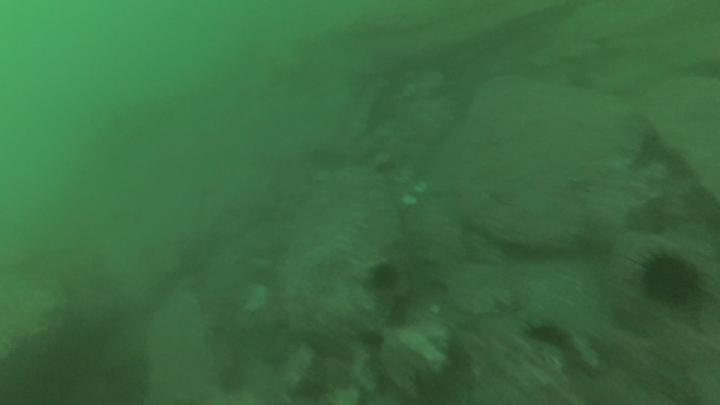echinus: (645, 255, 697, 304), (524, 321, 570, 348), (374, 264, 397, 286)
